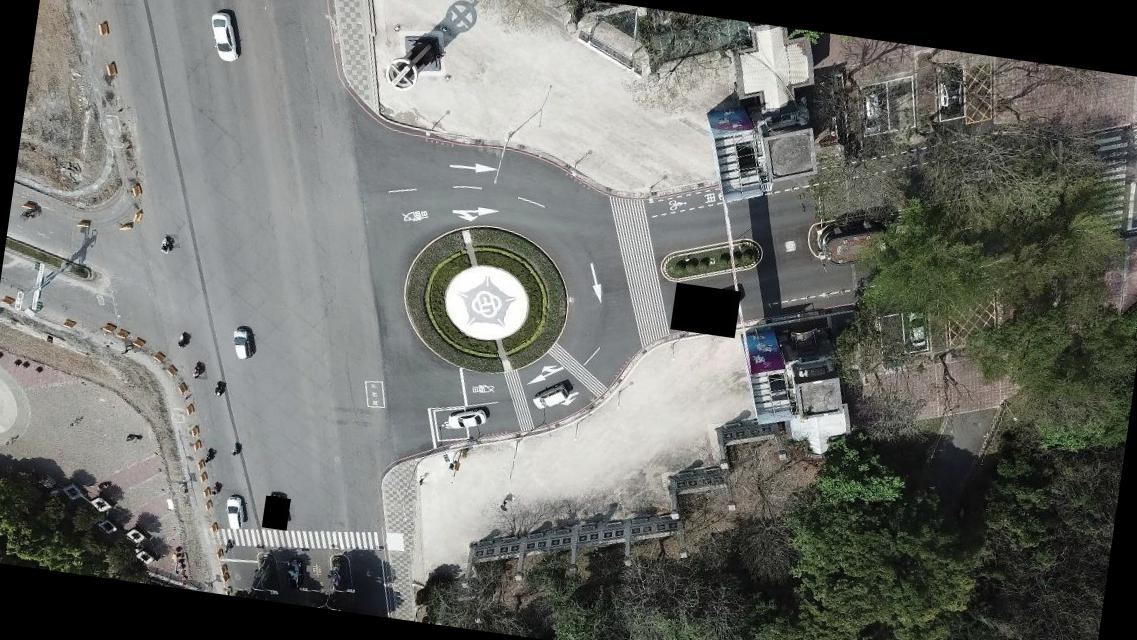vehicle: (204, 8, 244, 64), (933, 64, 967, 119), (858, 85, 886, 133), (531, 380, 569, 413), (446, 406, 488, 434), (228, 326, 256, 360), (222, 495, 247, 530), (905, 312, 929, 346)
